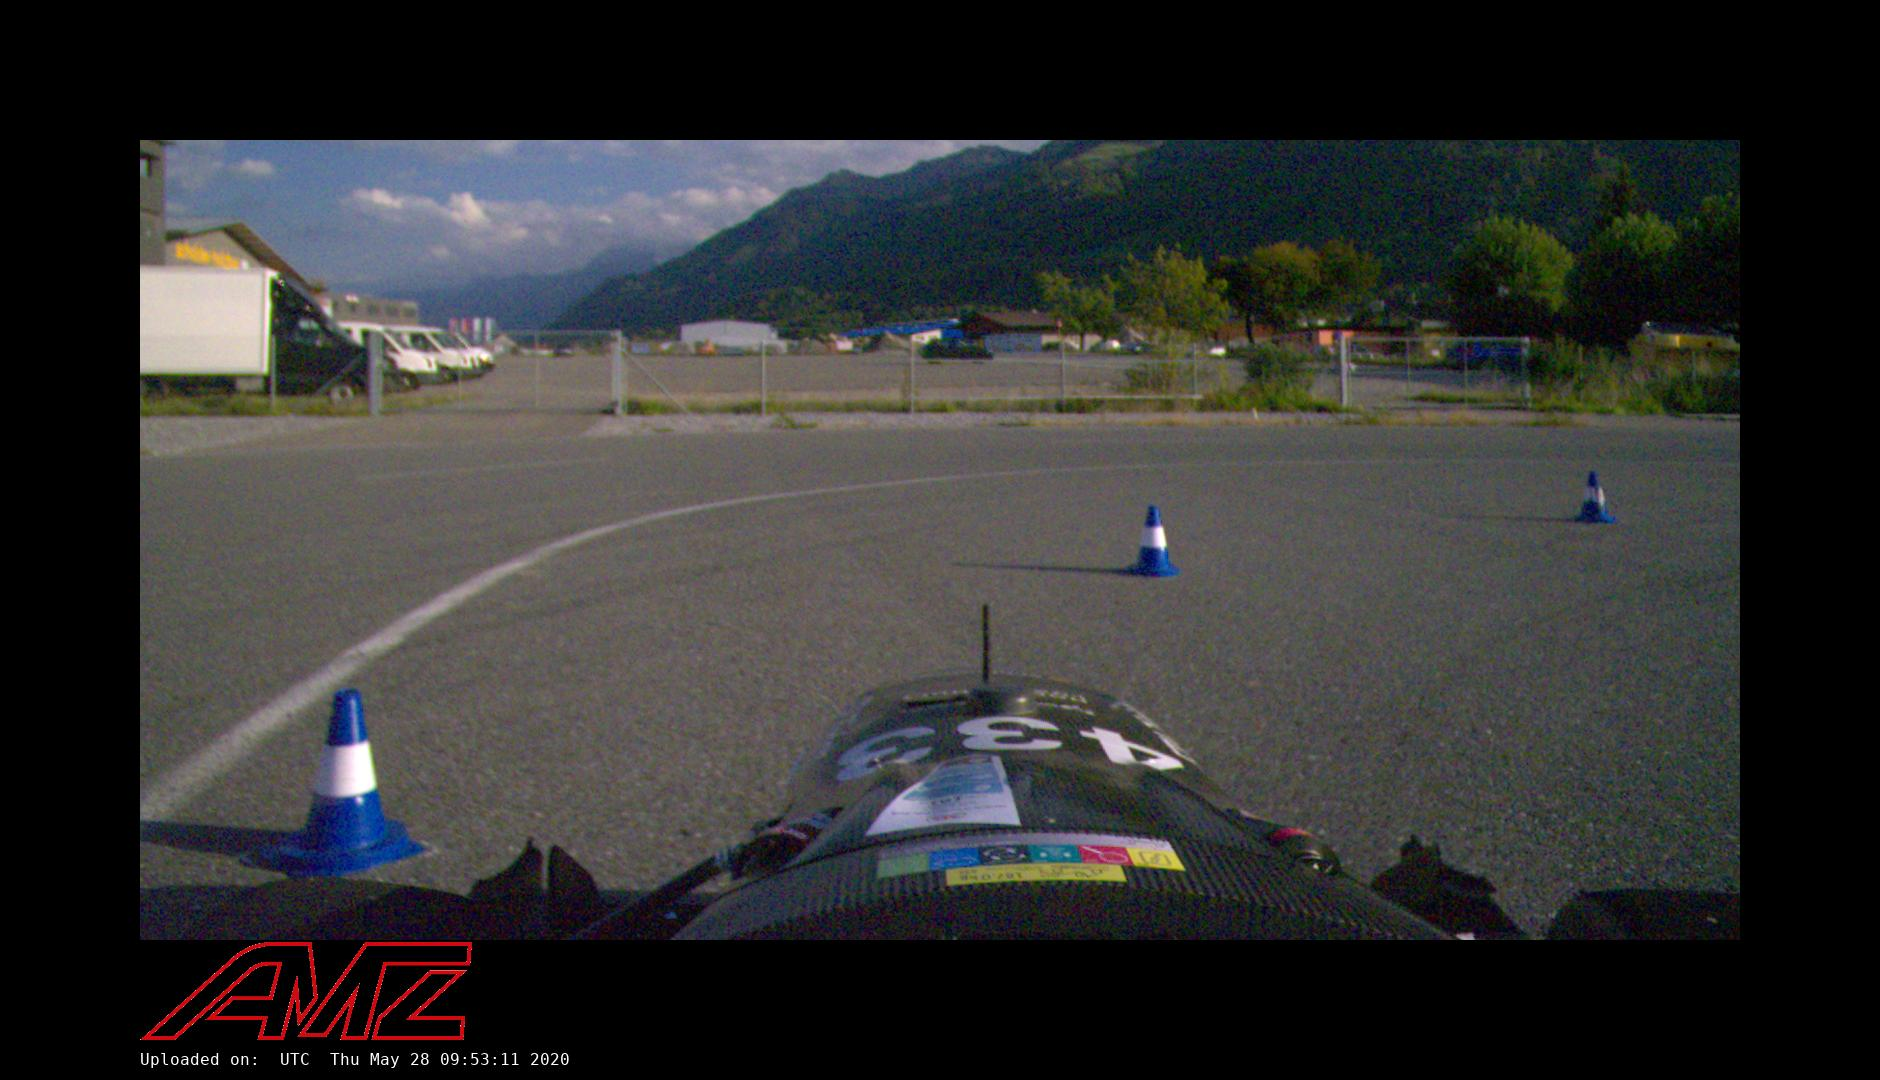blue_cone: (238, 689, 427, 878), (1127, 506, 1178, 577), (1575, 472, 1614, 523)
